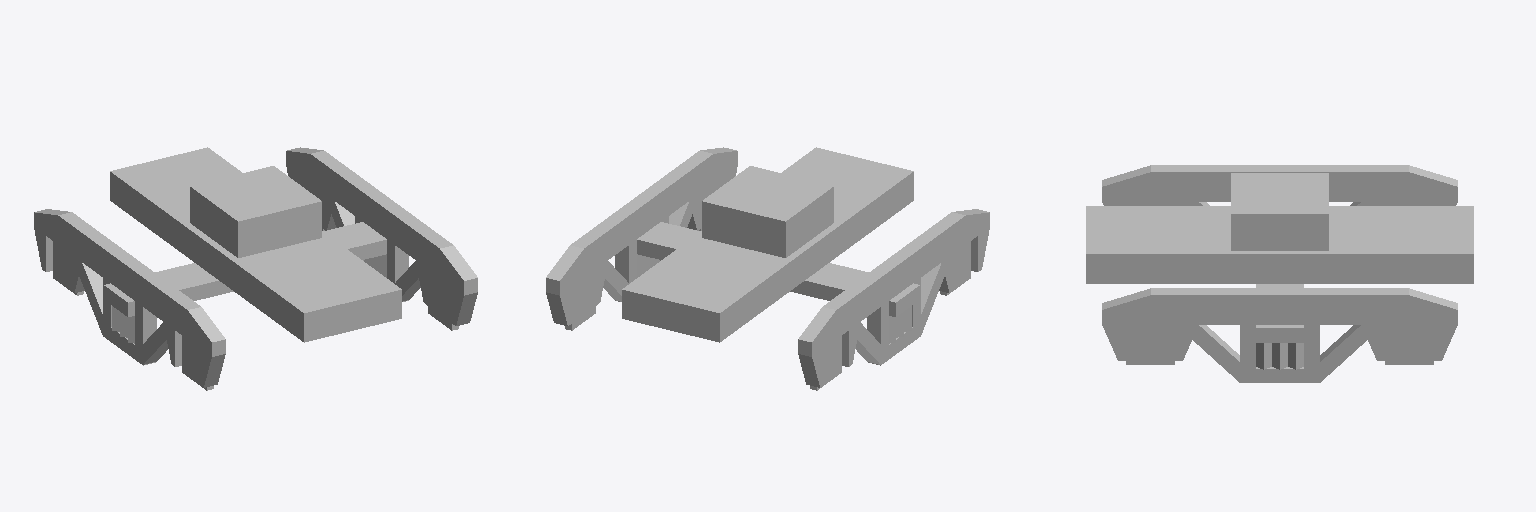
The model's file is freight_frame.obj.
3 views of the same model, side by side, from view 1: azimuth 30°, elevation 25°; view 2: azimuth 150°, elevation 25°; view 3: azimuth 270°, elevation 25° (orthographic).
Parts seen in each view (by area): view 1: cube2, cube1, cube23, cube17, cube33, cube27, cube15, cube16, cube6, cube29, cube4, cube13 (+5 smaller); view 2: cube2, cube1, cube23, cube17, cube33, cube18, cube16, cube15, cube3, cube14, cube19, cube7 (+4 smaller); view 3: cube2, cube23, cube17, cube1, cube18, cube27, cube22, cube25, cube20, cube33, cube21, cube30 (+2 smaller).
Boxes of the visible parts, <box> form: cube2: <box>110,147,401,342</box>; cube1: <box>190,166,321,257</box>; cube23: <box>286,147,477,295</box>; cube17: <box>34,209,225,356</box>; cube33: <box>104,222,386,316</box>; cube27: <box>428,270,458,330</box>; cube15: <box>74,257,102,334</box>; cube16: <box>137,321,170,364</box>; cube6: <box>182,336,213,390</box>; cube29: <box>452,287,477,325</box>; cube4: <box>200,349,225,387</box>; cube13: <box>135,301,156,347</box>; cube2: <box>622,147,913,342</box>; cube1: <box>702,166,833,257</box>; cube23: <box>546,147,737,295</box>; cube17: <box>798,209,989,356</box>; cube33: <box>637,222,919,316</box>; cube18: <box>565,270,595,330</box>; cube16: <box>916,259,945,334</box>; cube15: <box>853,320,884,364</box>; cube3: <box>810,336,841,390</box>; cube14: <box>867,301,888,350</box>; cube19: <box>546,287,571,325</box>; cube7: <box>798,349,823,387</box>; cube2: <box>1086,206,1473,283</box>; cube23: <box>1102,288,1457,324</box>; cube17: <box>1102,165,1457,201</box>; cube1: <box>1231,173,1328,250</box>; cube18: <box>1385,325,1433,364</box>; cube27: <box>1126,325,1174,364</box>; cube22: <box>1309,321,1376,382</box>; cube25: <box>1183,322,1249,382</box>; cube20: <box>1240,367,1319,382</box>; cube33: <box>1256,284,1303,342</box>; cube21: <box>1240,325,1255,368</box>; cube30: <box>1304,325,1319,368</box>.
Bounding box in the file's own units: 2.5 × 1.06 × 3.